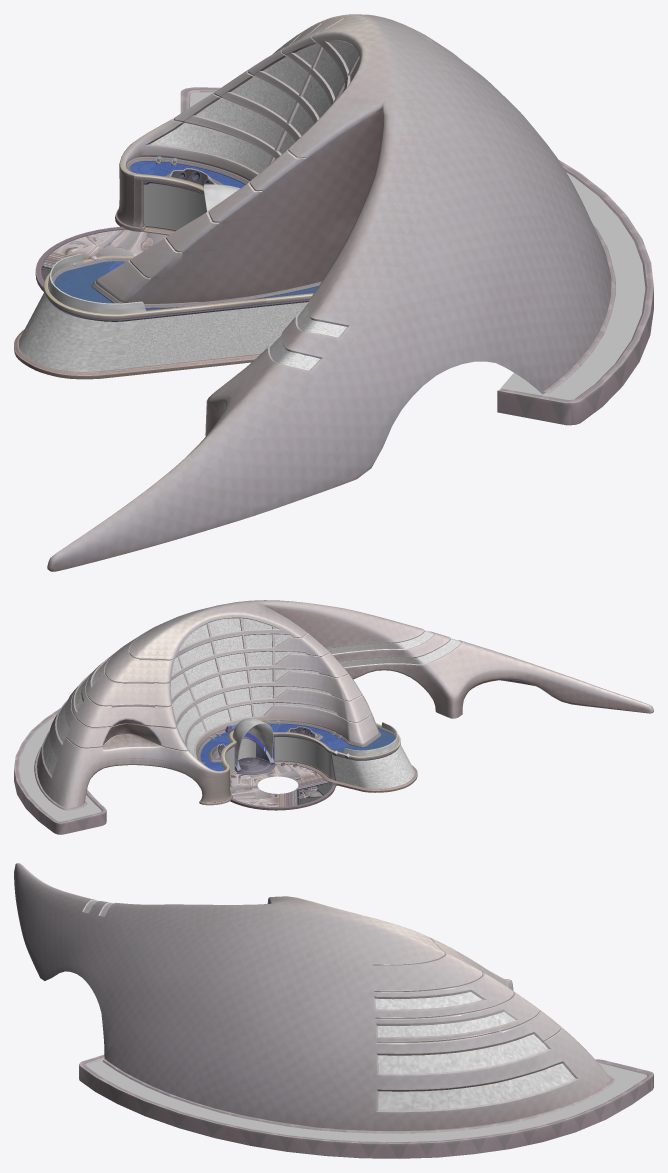
File: pref_sm_beach_techborn01_lv3.fbx
3 views of the same model, one above another, from view 1: azimuth 30°, elevation 25°; view 2: azimuth 150°, elevation 25°; view 3: azimuth 270°, elevation 25° (orthographic). The views are drawn at different scales.
Visible parts, largest first — view 1: sm_beach_techborn01a_lv3, sm_beach_techborn05a_lv3, sm_beach_techborn06a_lv3, sm_beach_techborn04a_lv3; view 2: sm_beach_techborn01a_lv3, sm_beach_techborn05a_lv3, sm_beach_techborn06a_lv3, sm_beach_techborn04a_lv3; view 3: sm_beach_techborn01a_lv3, sm_beach_techborn05a_lv3, sm_beach_techborn06a_lv3.
Part boxes in pixels (box(x1,y1,x2,y2)): sm_beach_techborn01a_lv3: box(14, 14, 653, 571); sm_beach_techborn05a_lv3: box(19, 41, 359, 371); sm_beach_techborn06a_lv3: box(190, 92, 645, 399); sm_beach_techborn04a_lv3: box(143, 183, 206, 229); sm_beach_techborn01a_lv3: box(14, 600, 653, 834); sm_beach_techborn05a_lv3: box(43, 618, 461, 788); sm_beach_techborn06a_lv3: box(18, 716, 101, 821); sm_beach_techborn04a_lv3: box(224, 737, 334, 778); sm_beach_techborn01a_lv3: box(14, 863, 653, 1158); sm_beach_techborn05a_lv3: box(84, 900, 575, 1110); sm_beach_techborn06a_lv3: box(87, 1059, 647, 1141).
Bounding box in the file's own units: 62.54 × 17.61 × 62.38.
